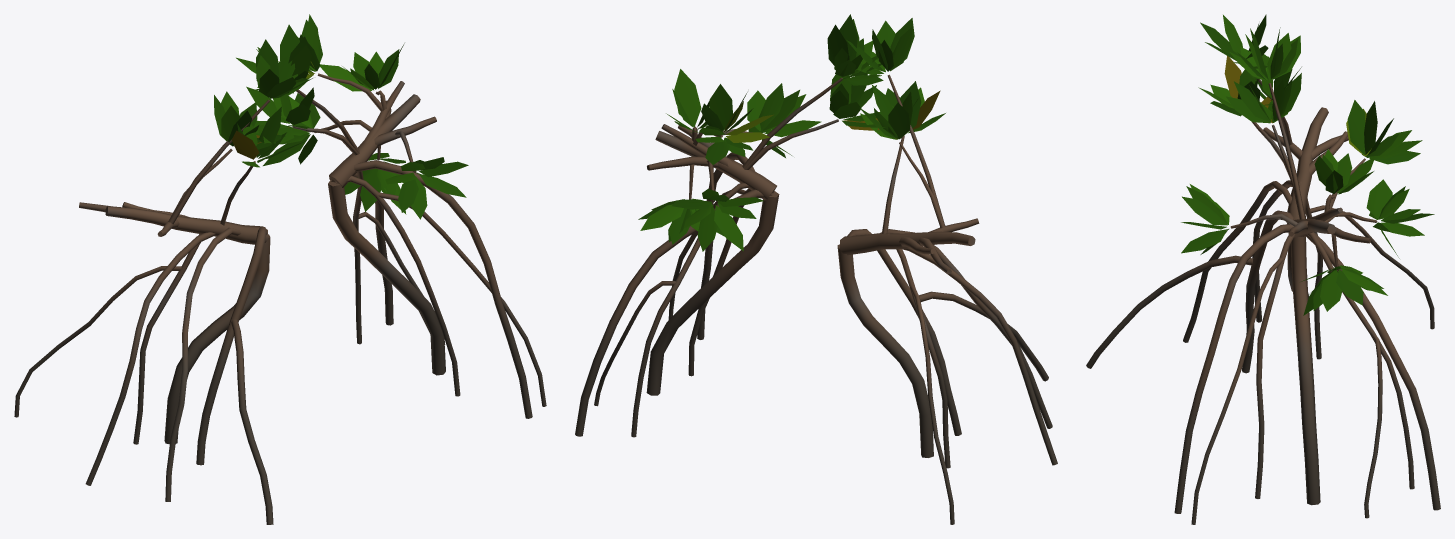
File: RedMangrove_09_Seedling.fbx
3 views of the same model, side by side, from view 1: azimuth 30°, elevation 25°; view 2: azimuth 150°, elevation 25°; view 3: azimuth 270°, elevation 25° (orthographic).
Visible parts, largest first — view 1: RedMangrove_09_Seedling_LOD0; view 2: RedMangrove_09_Seedling_LOD0; view 3: RedMangrove_09_Seedling_LOD0.
Boxes of the visible parts, box(x1,y1,x2,y2) form: RedMangrove_09_Seedling_LOD0: box(14, 14, 546, 524); RedMangrove_09_Seedling_LOD0: box(575, 14, 1057, 524); RedMangrove_09_Seedling_LOD0: box(1086, 14, 1440, 524).
Size of what is drawn, in the model's own units: 1.74 by 1.56 by 1.27.
